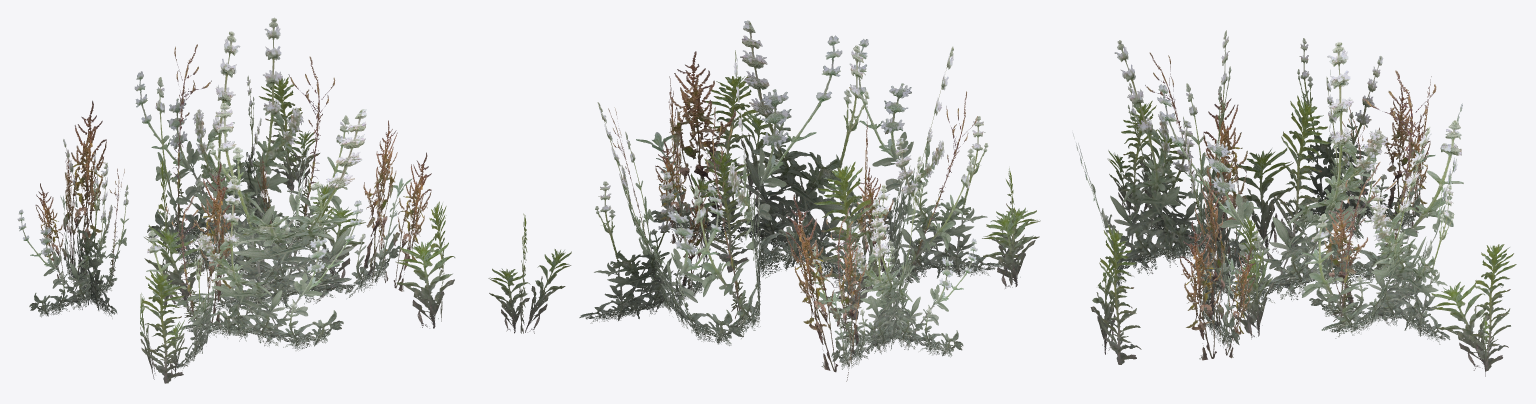
The model's file is proc_sage_01.FBX.
The picture shows the model from 3 angles, left to right: view 1: azimuth 30°, elevation 25°; view 2: azimuth 150°, elevation 25°; view 3: azimuth 270°, elevation 25°; orthographic projection. The views are drawn at different scales.
Visible parts, largest first — view 1: proc_sage_01; view 2: proc_sage_01; view 3: proc_sage_01.
Boxes of the visible parts, x1,y1,x2,y2 form: proc_sage_01: [17, 17, 455, 383]; proc_sage_01: [488, 20, 1040, 381]; proc_sage_01: [1072, 30, 1516, 376].
Size of the model in its own units: 2.49 by 2.36 by 1.6.
Materials: 1 (1 with a texture image).
